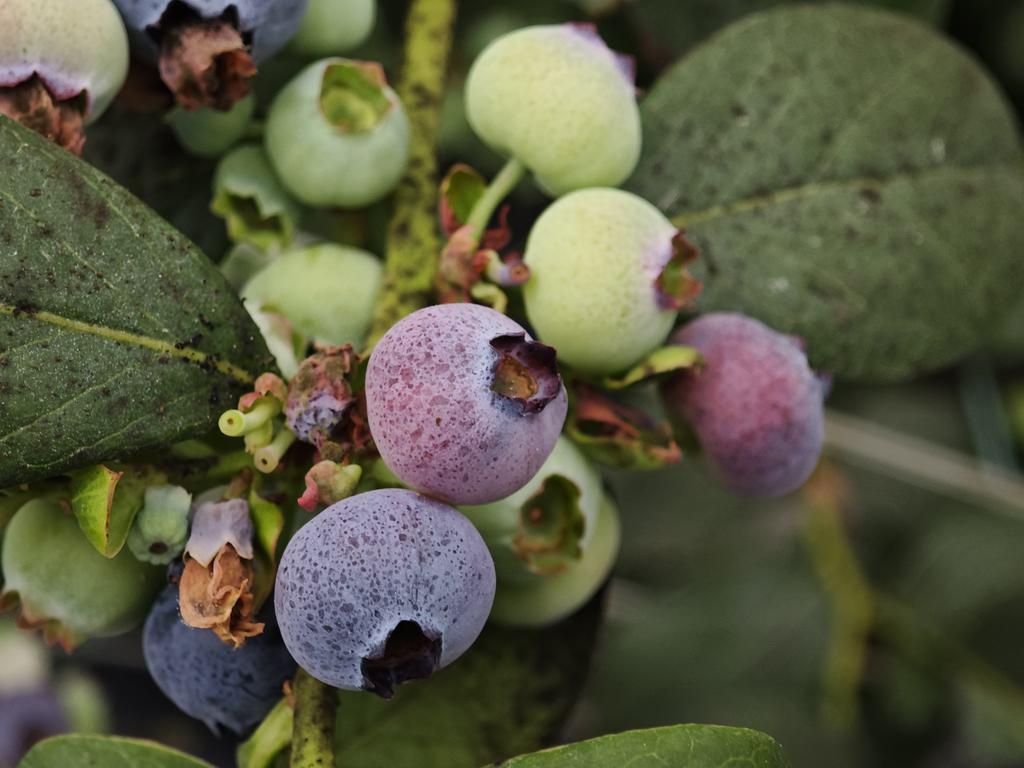RipeBlueBerry: (269, 485, 501, 698)
Semi-RipeBlueBerry: (364, 299, 574, 508)
UnripeBlueBerry: (522, 184, 695, 377)
